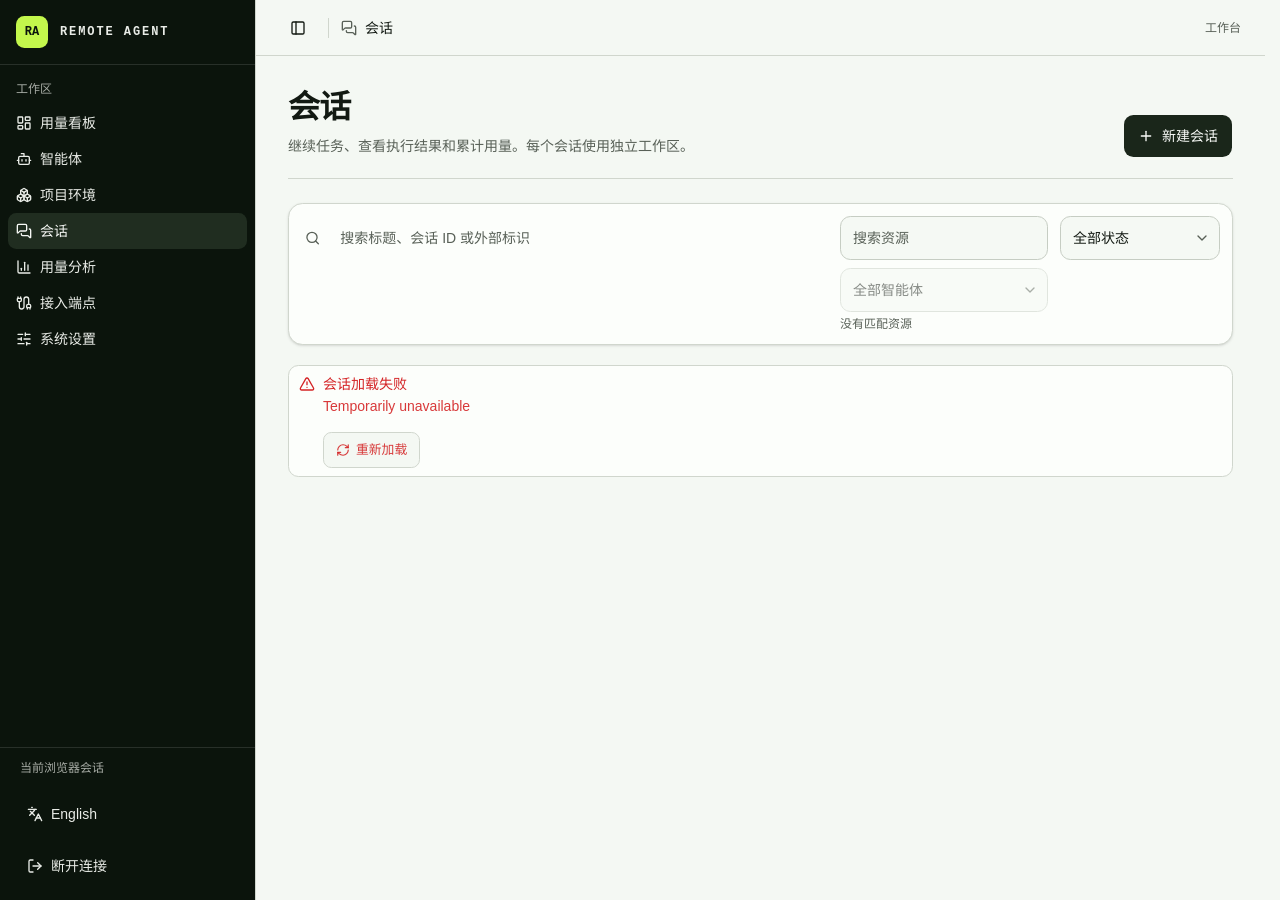
recovers a failed /sessions list without leaving a loading skeleton
The image size is (1280, 900).
Expected: the message shows "会话加载失败", [323, 376, 407, 392]
Click the button "重新加载": click(372, 450) [323, 432, 420, 468]
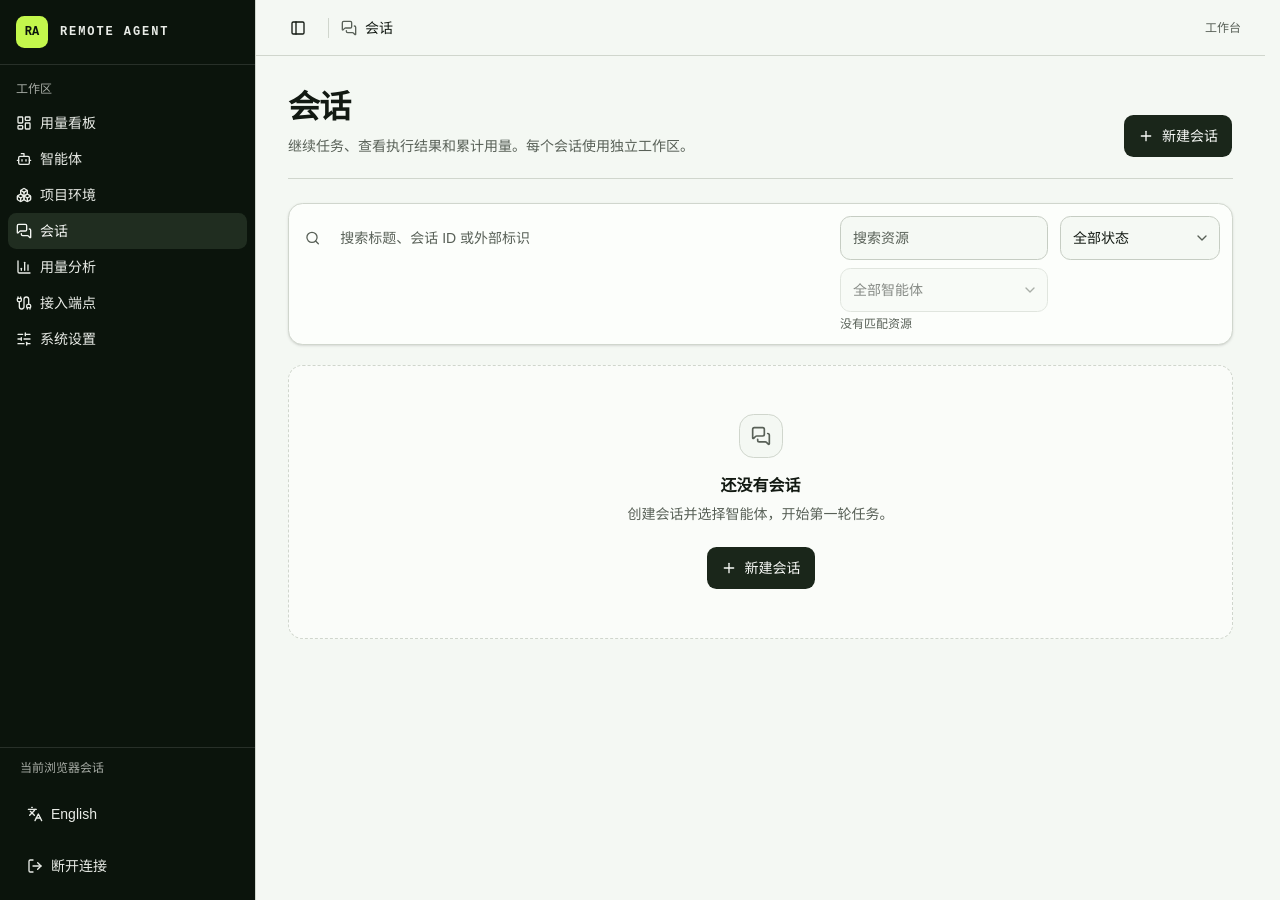
Now the heading "还没有会话" is shown, box [720, 474, 800, 498]
Now the message "会话加载失败 Temporarily unavailable 重新加载" is gone
